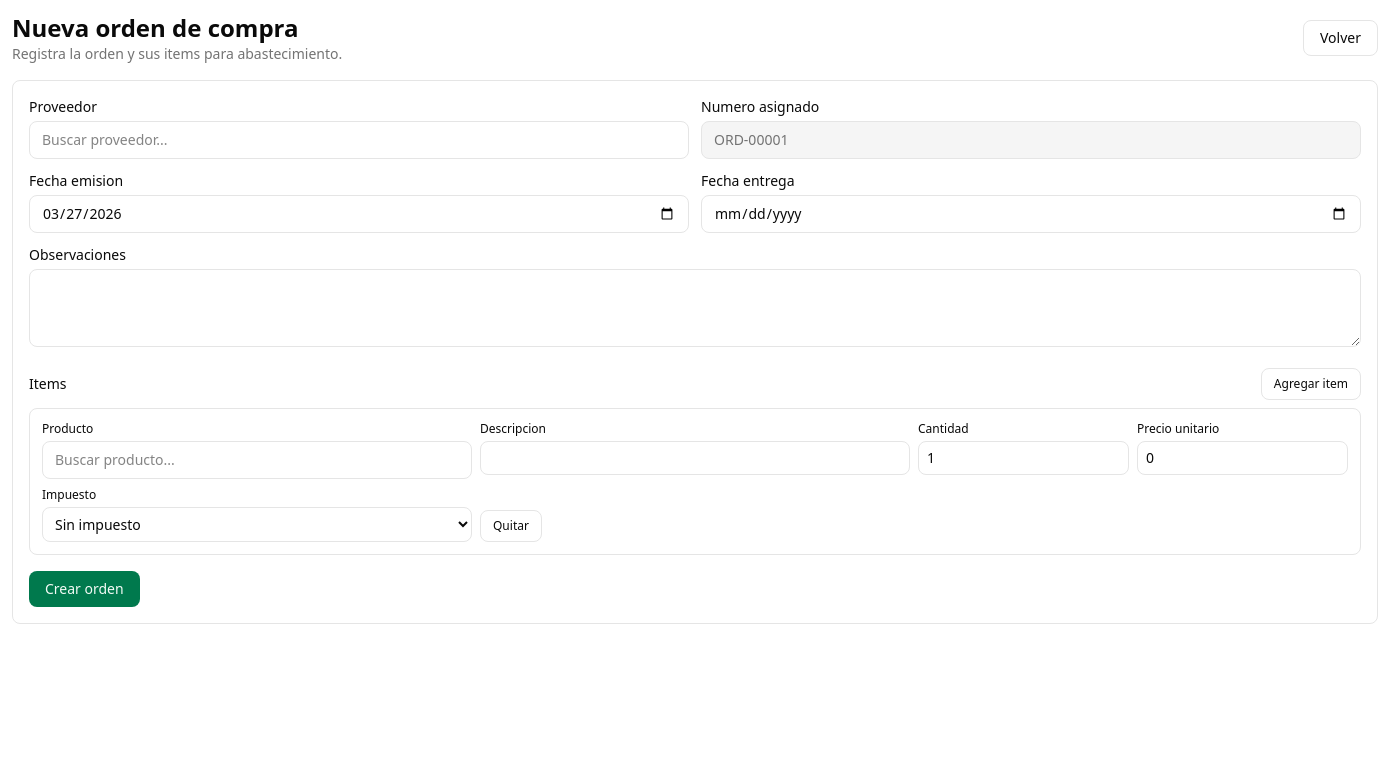
Scenario: compras/CreatePage › muestra contrato de error backend dentro del formulario
In the dropdown labelled "proveedor": [359, 140] box [29, 121, 689, 159], type "Proveedor"
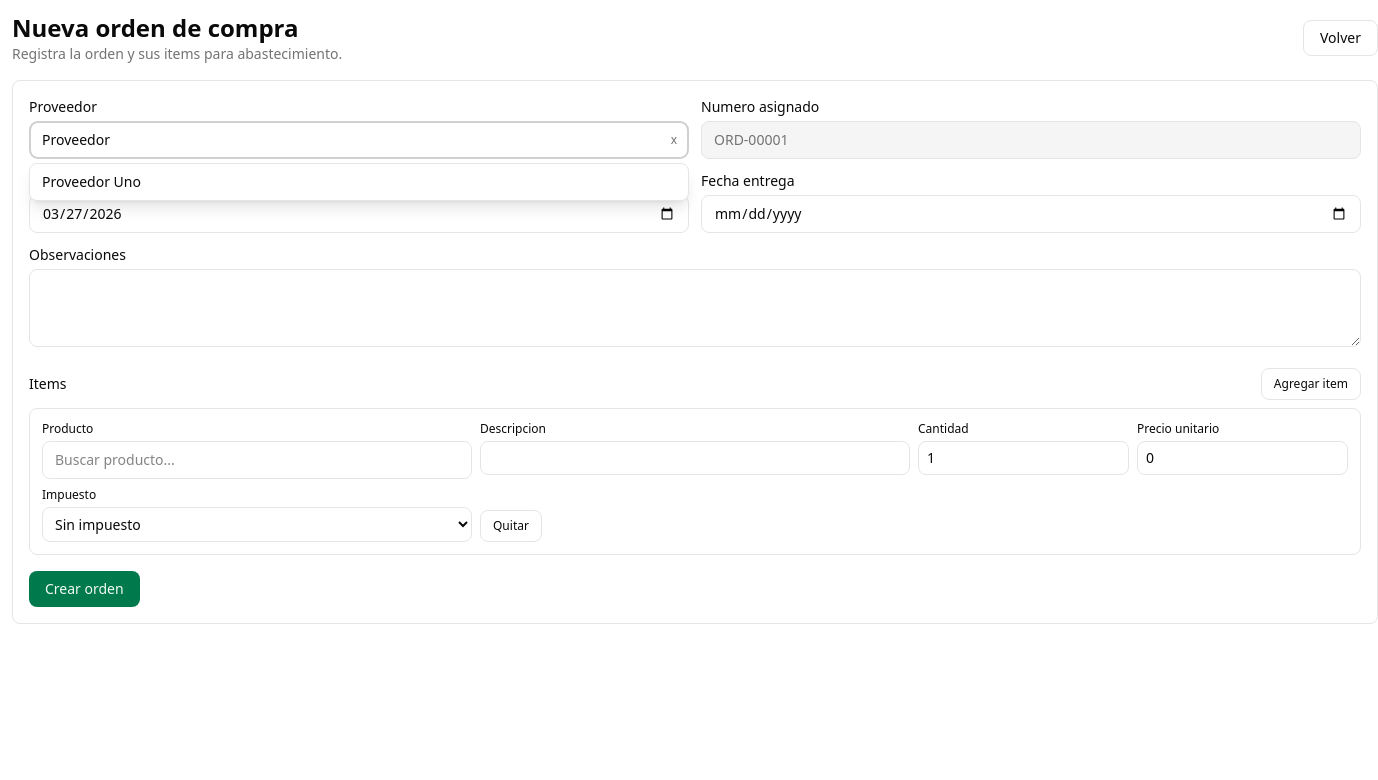
Click the button "Proveedor Uno": [91, 182] box [30, 164, 688, 200]
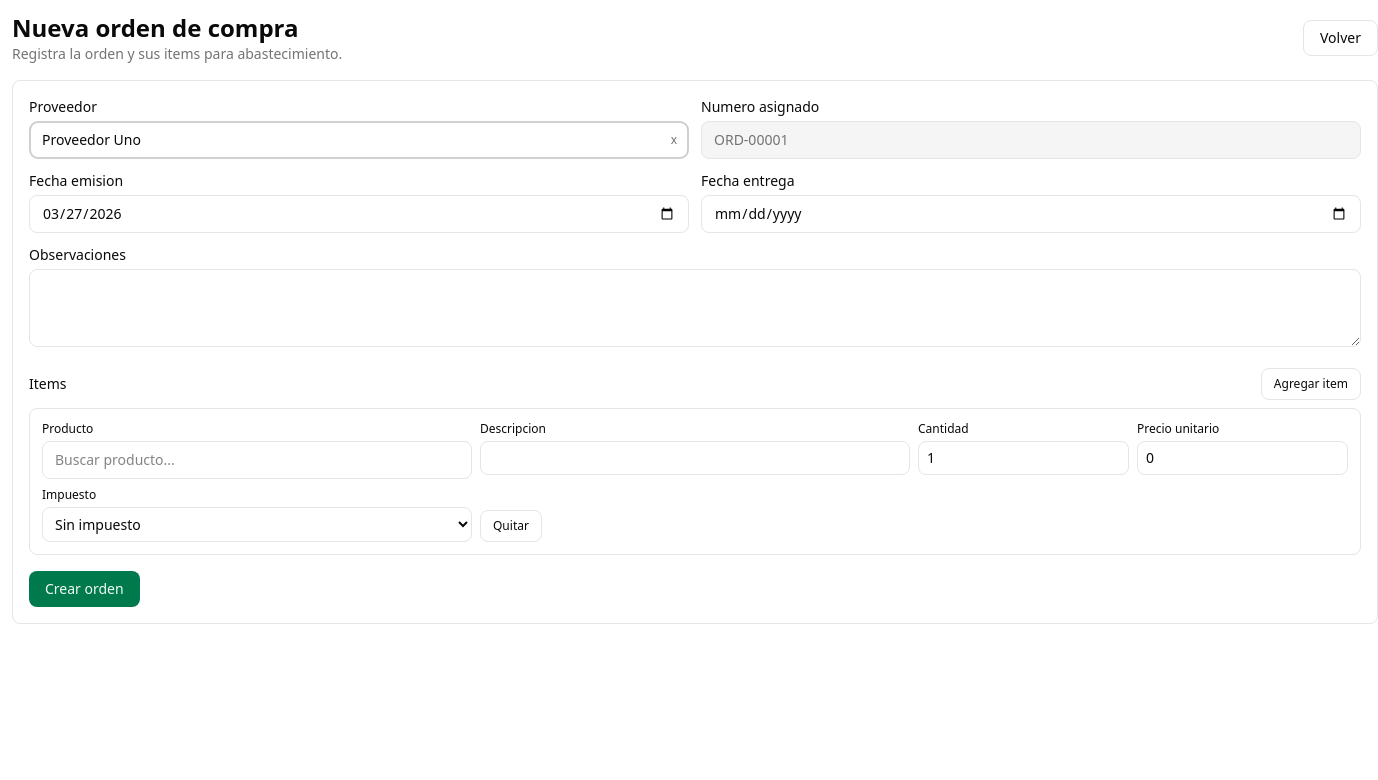
In the dropdown named "Producto item": [257, 460] box [42, 441, 472, 479], type "Producto"
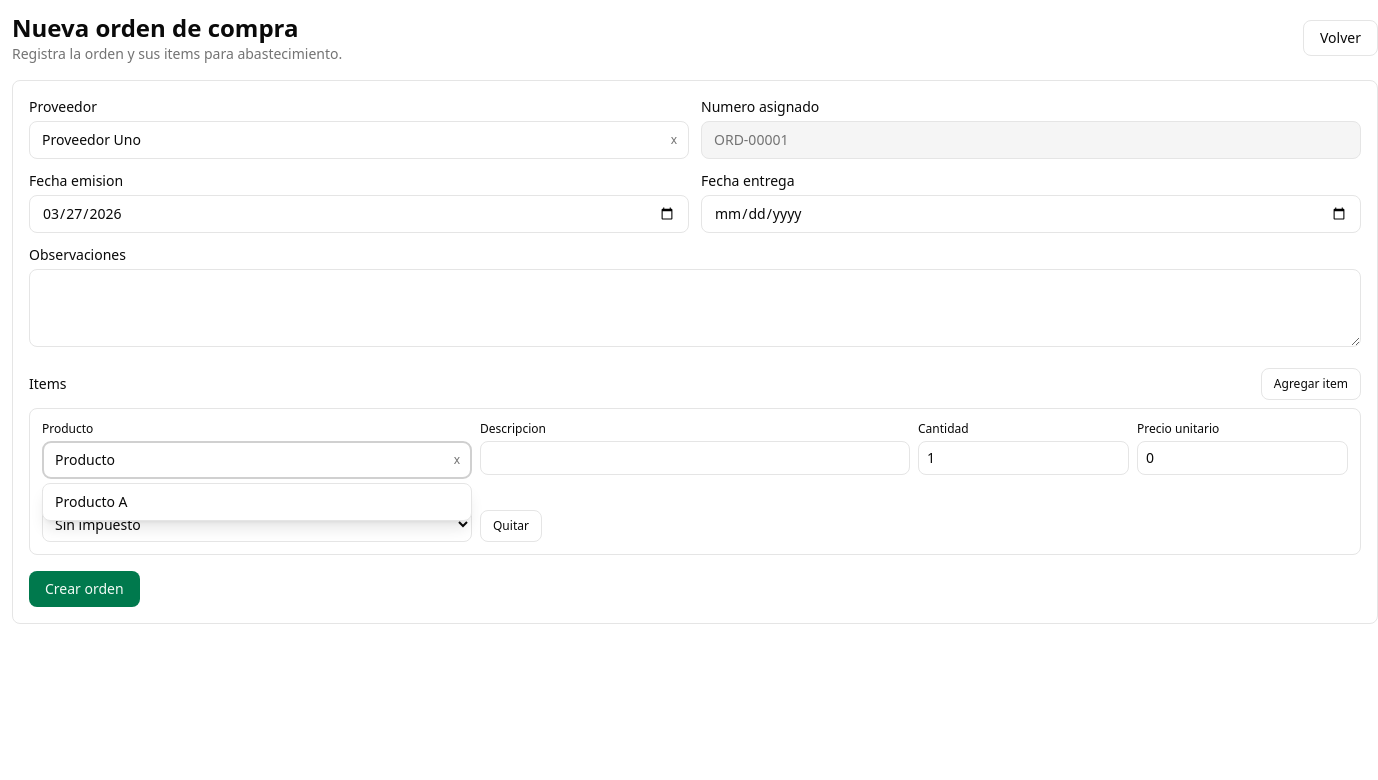
Click the button "Producto A": [91, 502] box [43, 484, 471, 520]
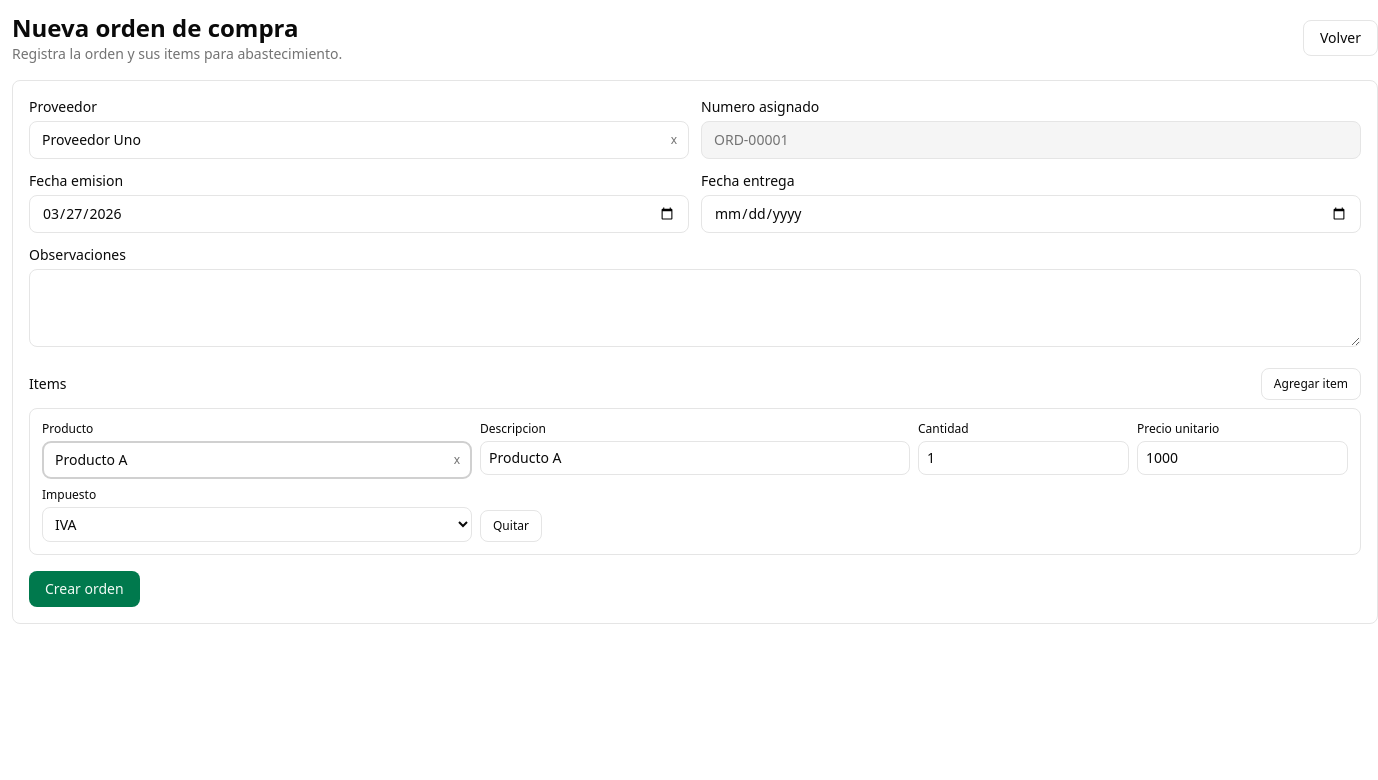
Click the button "Crear orden": [84, 589] box [29, 571, 140, 607]
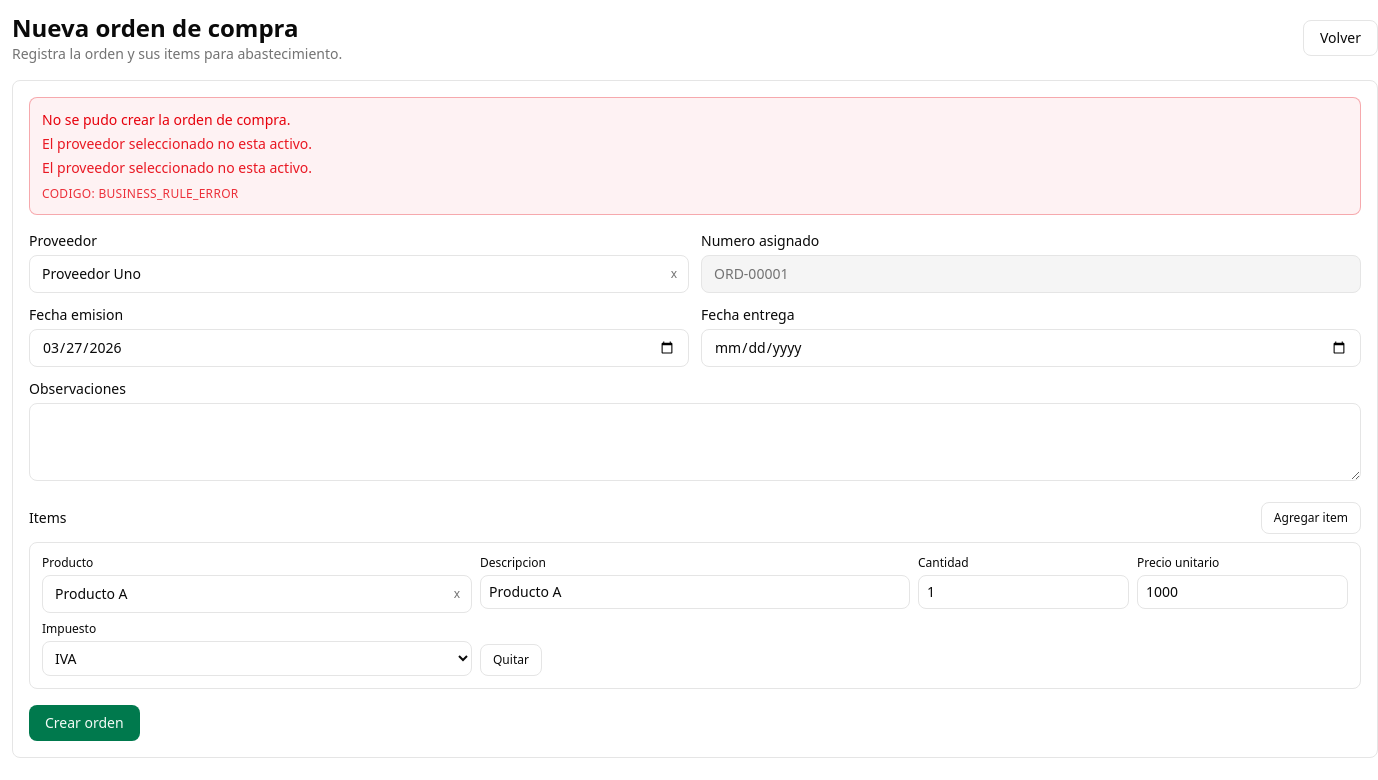
expect the 1st text "El proveedor seleccionado no esta activo." is shown: met, box [42, 134, 312, 153]
expect the text "Codigo: BUSINESS_RULE_ERROR" is shown: met, box [42, 185, 239, 202]
